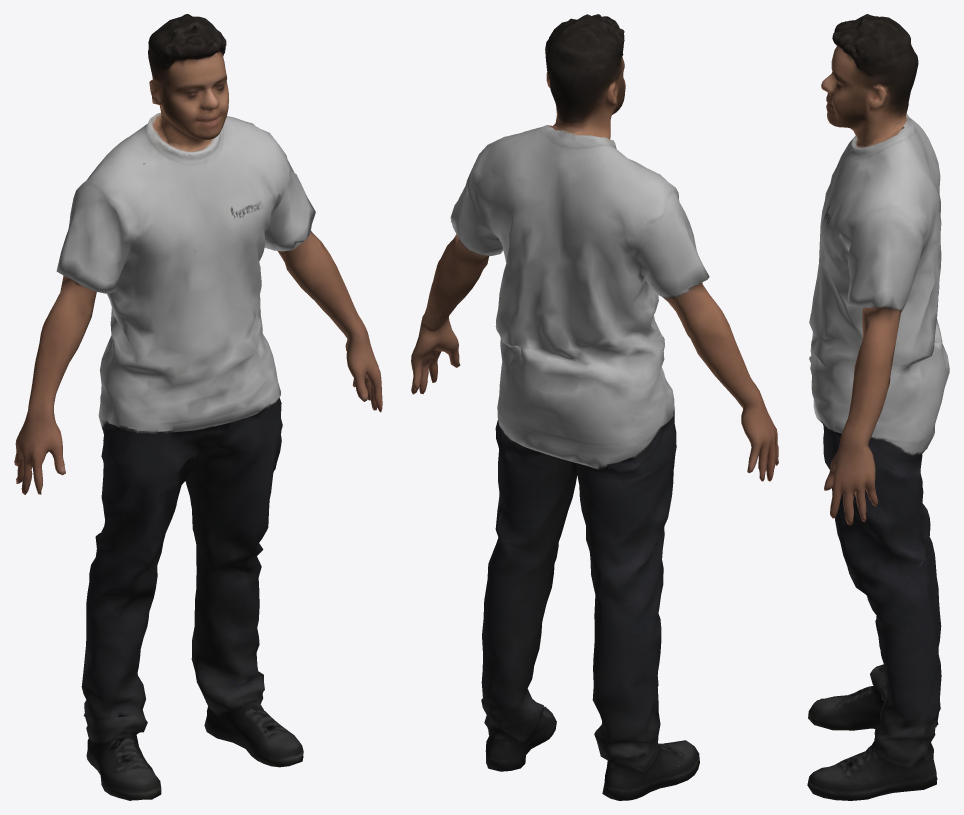
The model's file is shater.glb.
3 renders of one model, left to right at view 1: azimuth 30°, elevation 25°; view 2: azimuth 150°, elevation 25°; view 3: azimuth 270°, elevation 25°, orthographic.
Visible parts, largest first — view 1: body; view 2: body; view 3: body.
Boxes of the visible parts, x1,y1,x2,y2 form: body: (14,14,382,800); body: (411,14,778,800); body: (807,14,949,800).
Bounding box in the file's own units: 0.8991 × 1.8 × 0.3146.
Materials: 1 (1 with a texture image).
